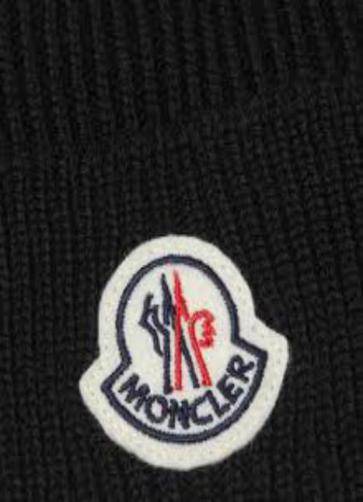MONCLER: (138, 269, 218, 399)
